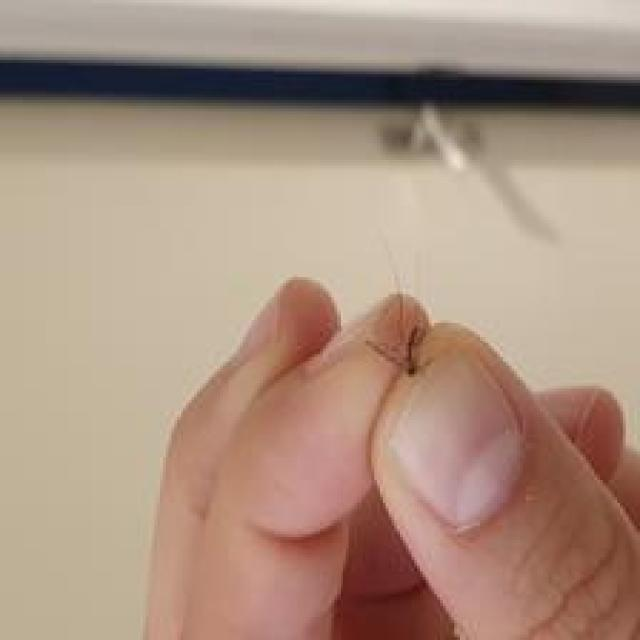Culex: (387, 102, 564, 247)
